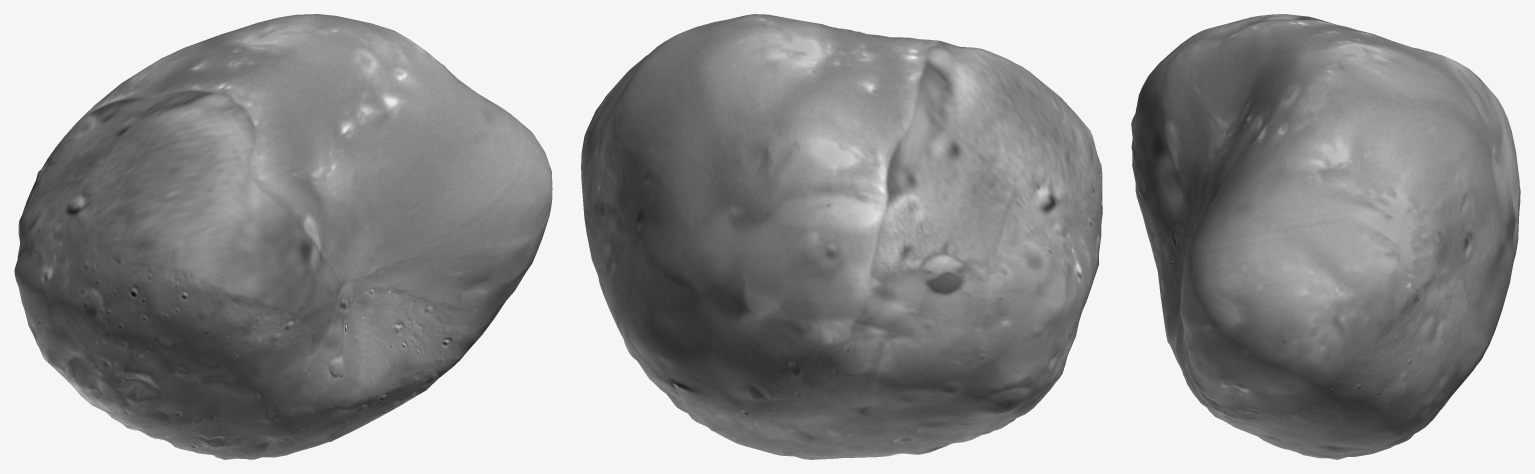
Rendered from deimos.glb.
3 views of the same model, side by side, from view 1: azimuth 30°, elevation 25°; view 2: azimuth 150°, elevation 25°; view 3: azimuth 270°, elevation 25° (orthographic). The views are drawn at different scales.
Parts seen in each view (by area): view 1: Deimos; view 2: Deimos; view 3: Deimos.
Boxes of the visible parts, bbox=[...] form: Deimos: bbox=[14, 14, 552, 459]; Deimos: bbox=[581, 14, 1102, 459]; Deimos: bbox=[1131, 14, 1520, 459].
Size of the model in its own units: 1543 by 1225 by 1081.
1 material, 1 textured.
